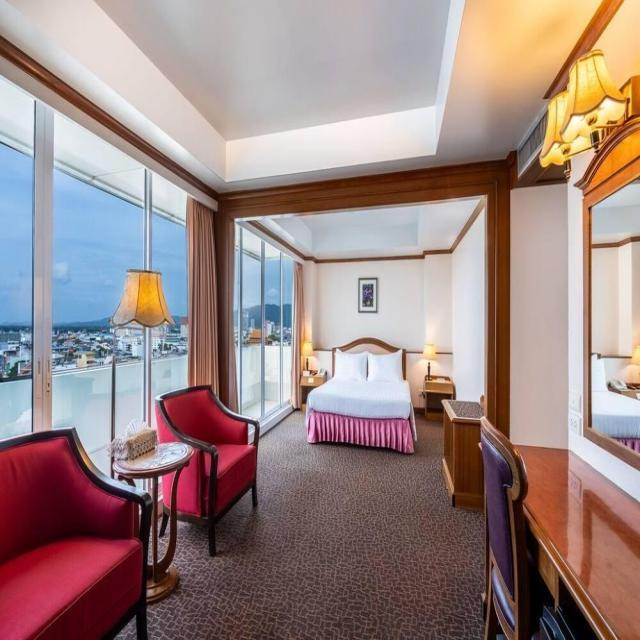bed: (304, 336, 416, 454)
sofa: (0, 425, 152, 638), (153, 384, 260, 556)
